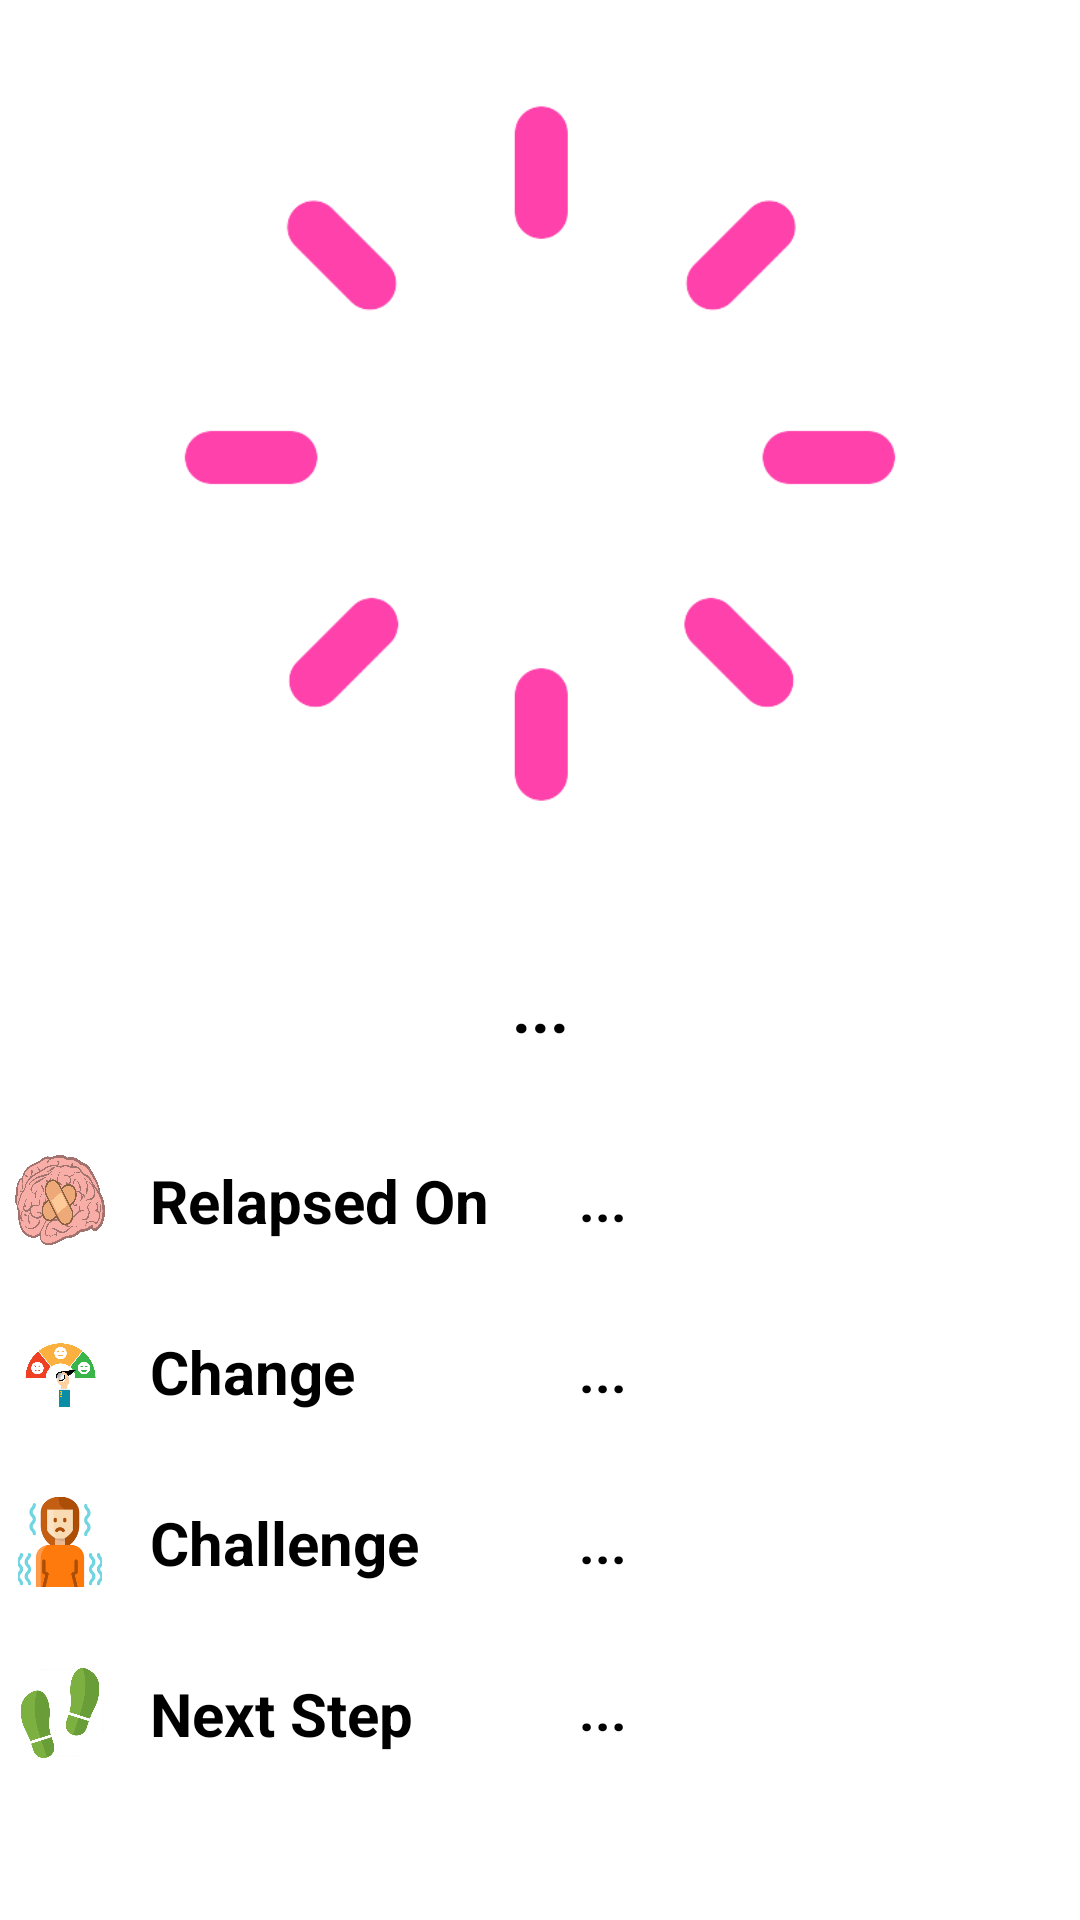

Where to tap for icons on this 1080 × 1920 app screen, as point (x, y):
brain: point (60, 1200)
steps: point (60, 1713)
